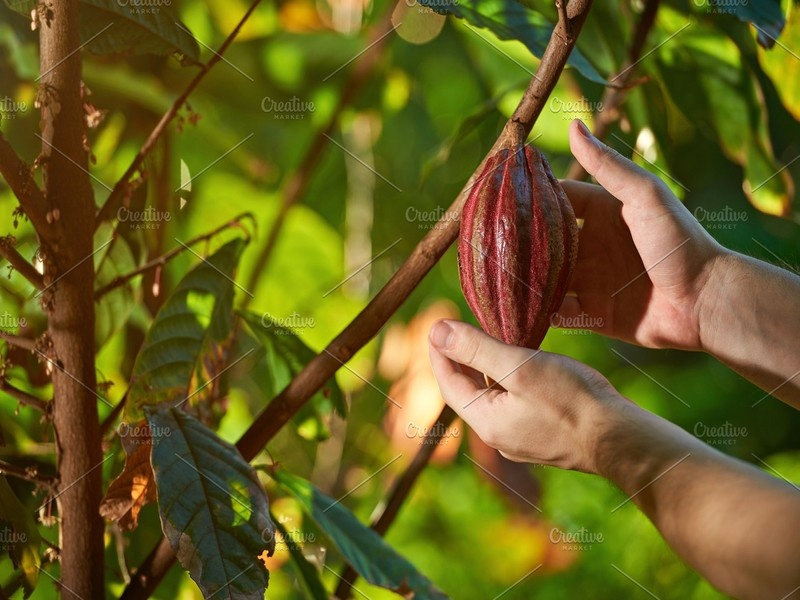Cacaopod: (451, 141, 578, 368)
